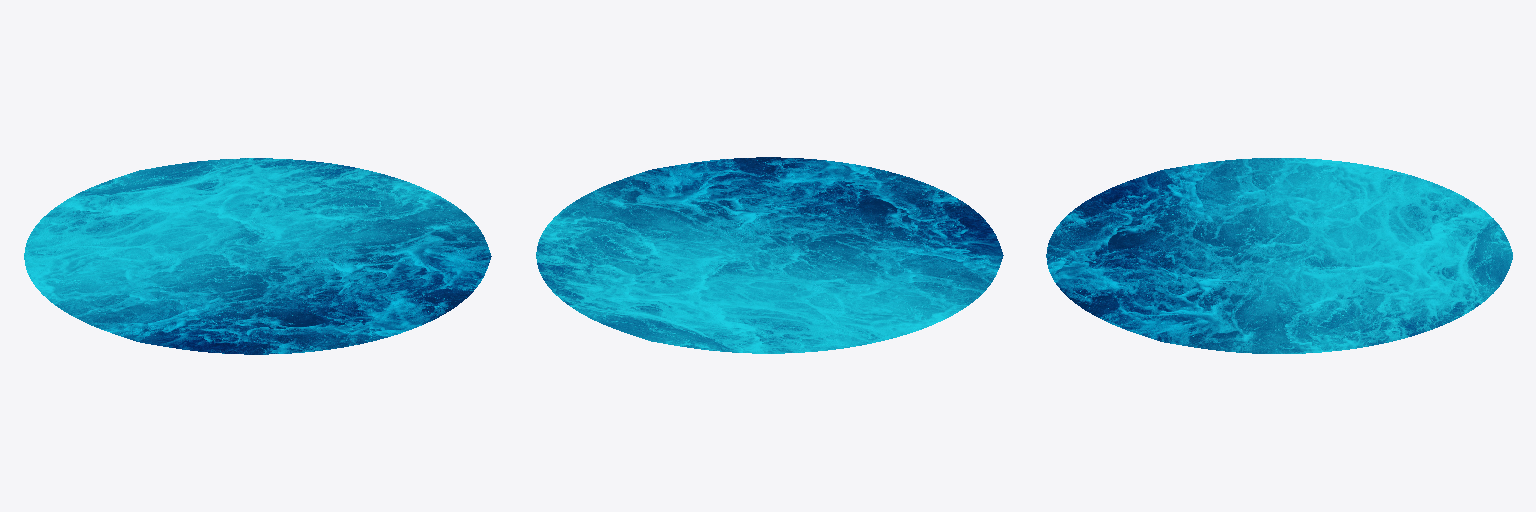
3 views of the same model, side by side, from view 1: azimuth 30°, elevation 25°; view 2: azimuth 150°, elevation 25°; view 3: azimuth 270°, elevation 25° (orthographic).
Visible parts, largest first — view 1: lago; view 2: lago; view 3: lago.
Part boxes in pixels (x1,y1,x2,y2): lago: (24,158,491,354); lago: (536,157,1003,353); lago: (1046,158,1512,353).
Size of the model in its own units: 98.94 by 0 by 99.47.
1 materials, 1 textured.